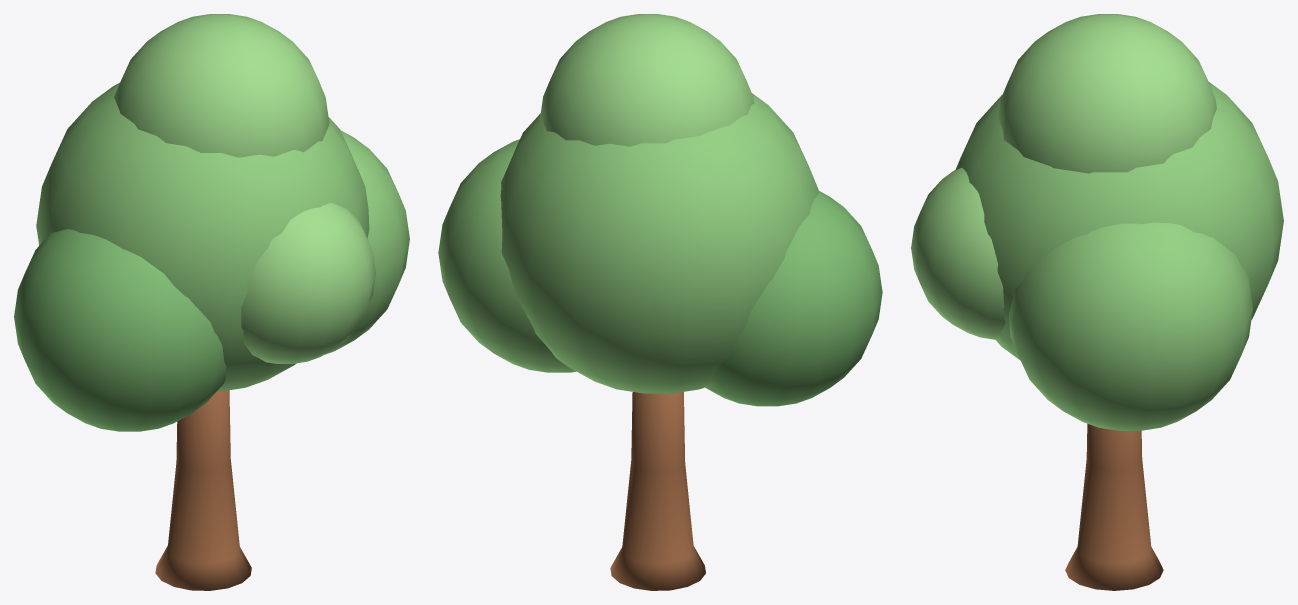
The model's file is tree.glb.
3 renders of one model, left to right at view 1: azimuth 30°, elevation 25°; view 2: azimuth 150°, elevation 25°; view 3: azimuth 270°, elevation 25°, orthographic. The views are drawn at different scales.
Parts seen in each view (by area): view 1: Tree; view 2: Tree; view 3: Tree.
Boxes of the visible parts, left/top/right/bottom form: Tree: left=14, top=14, right=409, bottom=590; Tree: left=438, top=14, right=882, bottom=590; Tree: left=911, top=14, right=1283, bottom=590.
Size of the model in its own units: 1.47 by 1.98 by 1.21.
